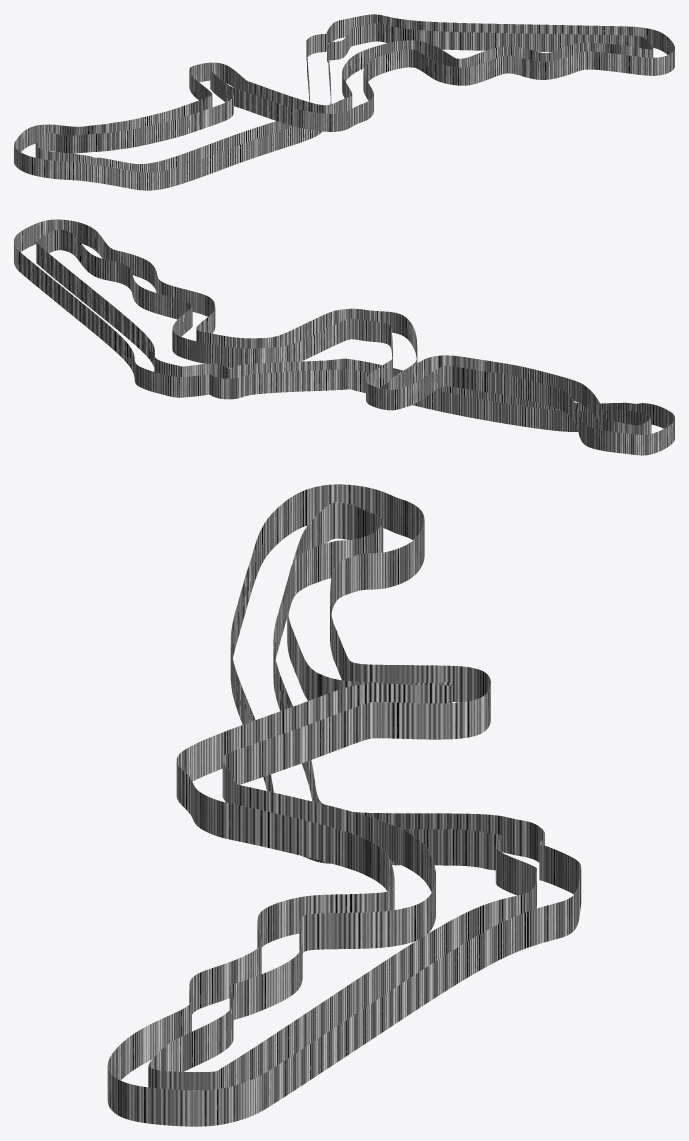
The model's file is track_circuit_wall.FBX.
The picture shows the model from 3 angles, top to bottom: view 1: azimuth 30°, elevation 25°; view 2: azimuth 150°, elevation 25°; view 3: azimuth 270°, elevation 25°; orthographic projection. The views are drawn at different scales.
Visible parts, largest first — view 1: track_wall; view 2: track_wall; view 3: track_wall.
Part boxes in pixels (x1,y1,x2,y2): track_wall: (14,14,674,190); track_wall: (14,219,674,455); track_wall: (107,484,581,1126).
Size of the model in its own units: 76140 by 6515 by 25605.
1 material, 1 textured.
